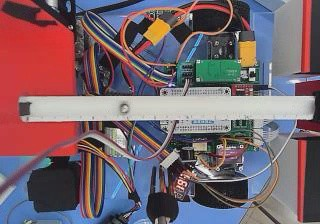ironball: (118, 102, 128, 114)
